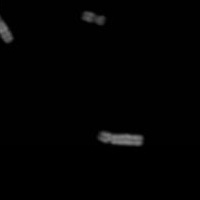chromosome: (96, 132, 142, 145), (0, 0, 12, 45), (82, 12, 105, 26)
